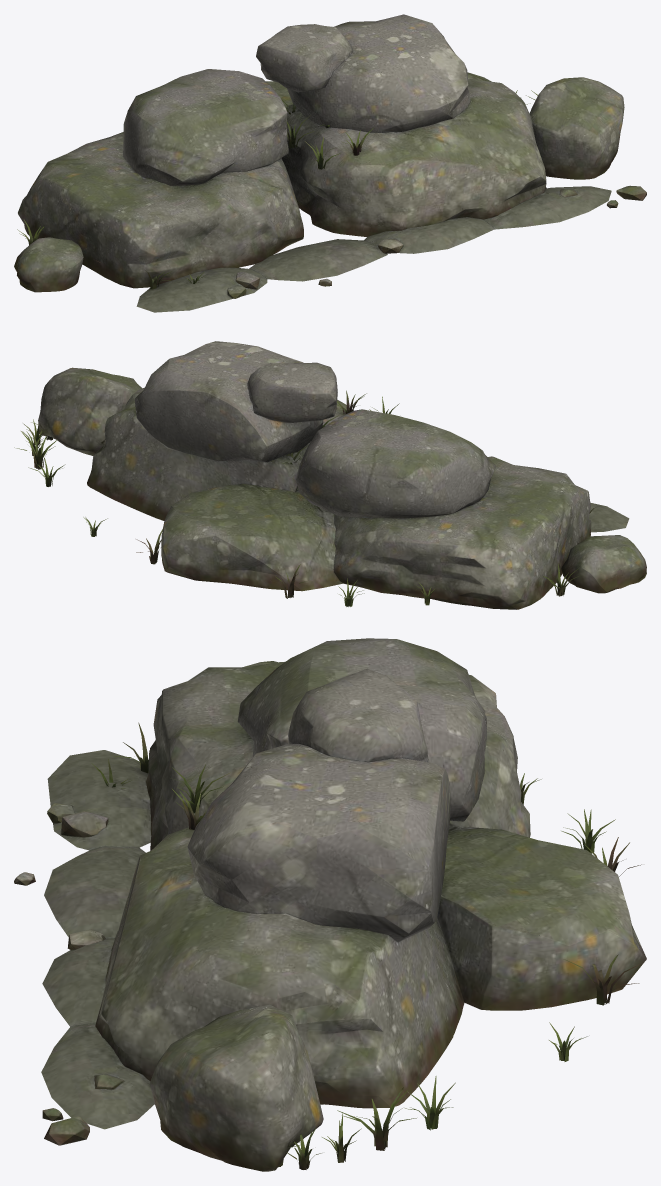
The model's file is rock_outcrop_a.glb.
The picture shows the model from 3 angles, top to bottom: view 1: azimuth 30°, elevation 25°; view 2: azimuth 150°, elevation 25°; view 3: azimuth 270°, elevation 25°; orthographic projection. The views are drawn at different scales.
Visible parts, largest first — view 1: rock_outcrop_a_LOD0; view 2: rock_outcrop_a_LOD0; view 3: rock_outcrop_a_LOD0.
Boxes of the visible parts, x1,y1,x2,y2 form: rock_outcrop_a_LOD0: (14, 14, 646, 312); rock_outcrop_a_LOD0: (14, 341, 646, 609); rock_outcrop_a_LOD0: (14, 638, 646, 1171).
Size of what is drawn, in the model's own units: 8.23 by 1.98 by 4.53.
Materials: 1 (1 with a texture image).
